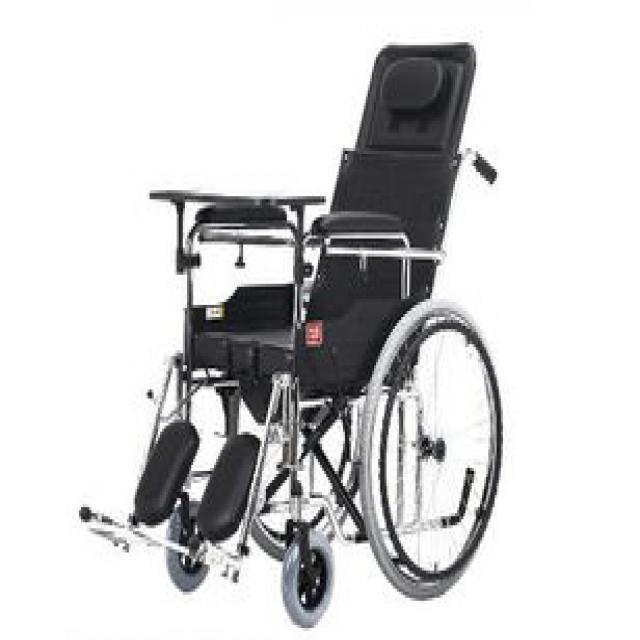wheelchair: (70, 27, 518, 637)
